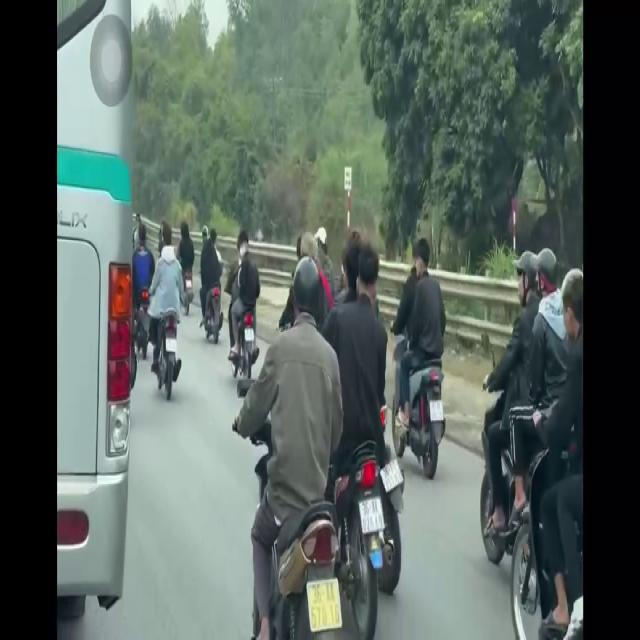helmet: (292, 240, 324, 348), (517, 252, 536, 320)
no_helmet: (560, 268, 582, 357), (412, 236, 431, 286)
